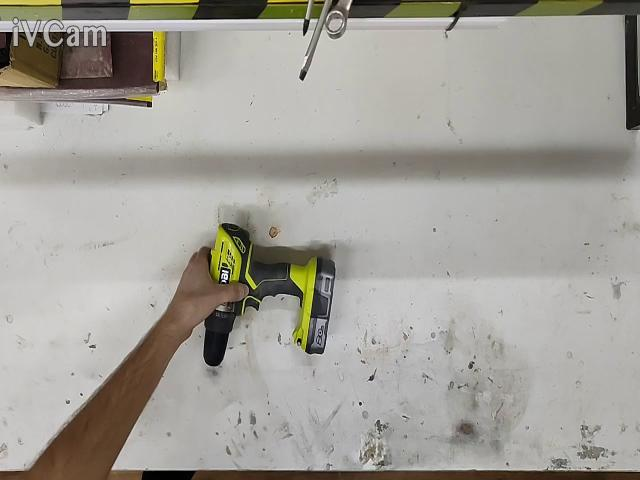Drill: (204, 223, 335, 367)
Hand: (16, 247, 249, 478)
Wrench: (325, 0, 352, 39)
